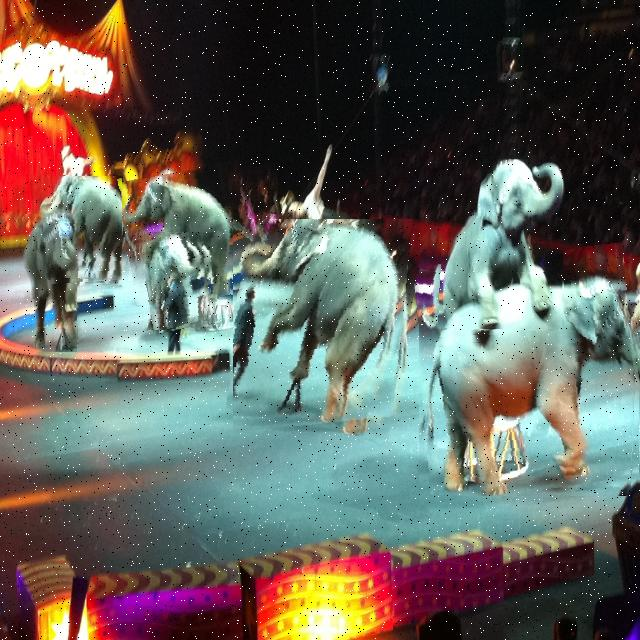elephant: (419, 247, 640, 496), (233, 219, 415, 435), (441, 159, 565, 330), (122, 165, 260, 305), (48, 176, 138, 284), (23, 214, 77, 352), (144, 232, 214, 331)
